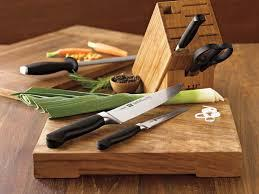knives: (29, 80, 214, 148)
